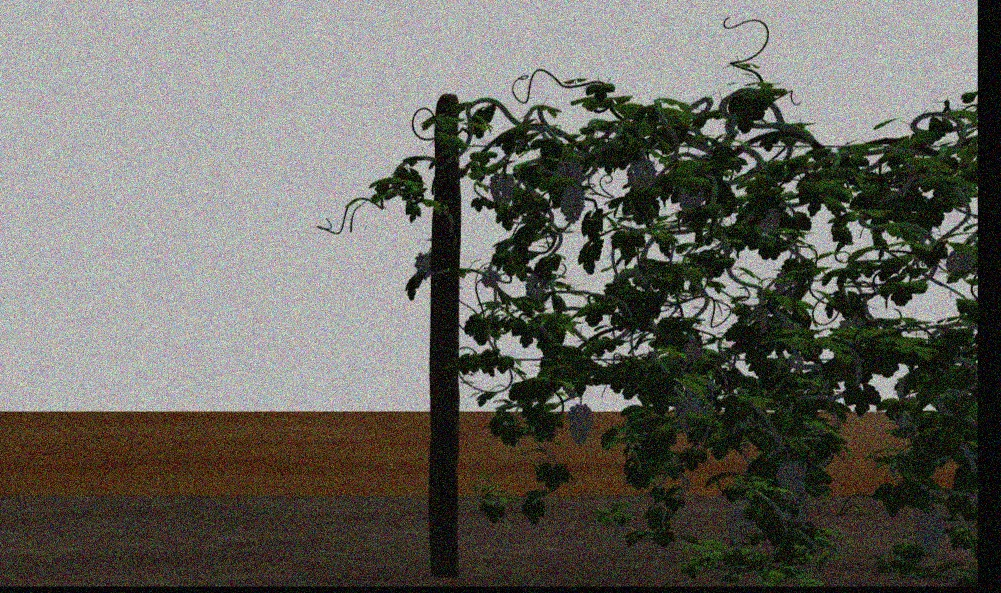grape: (913, 511, 945, 555), (775, 460, 805, 506), (567, 401, 595, 445), (558, 186, 584, 222), (729, 503, 754, 538), (677, 182, 704, 214), (626, 160, 656, 188), (488, 172, 514, 204), (945, 251, 972, 274), (525, 273, 546, 299), (413, 251, 430, 280), (682, 338, 702, 362)
